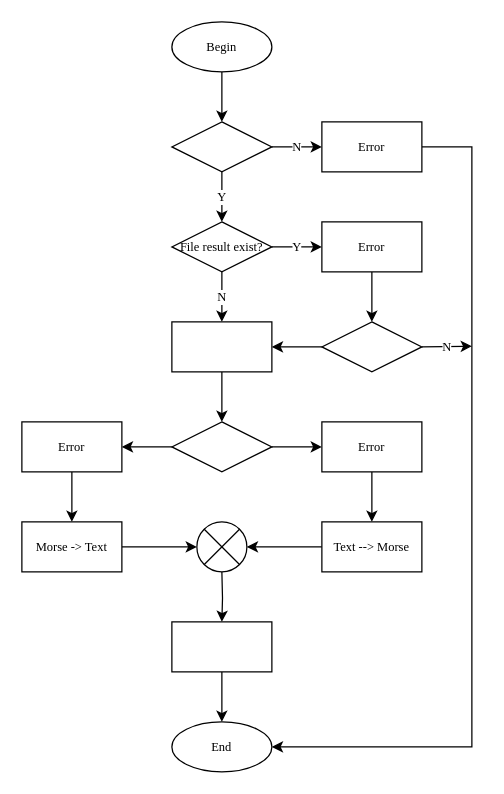
Some shapes in this 504 by 794 pixel diagram are drawn without their labels. Here are the shapes that lost their labels. From the top down, the centre of each, then its label:
At (221,146): "File data open?".
At (221,346): "Open and read file data".
At (371,346): "Overwrite?".
At (221,446): "Morse?".
At (221,646): "Open and write to file result".
